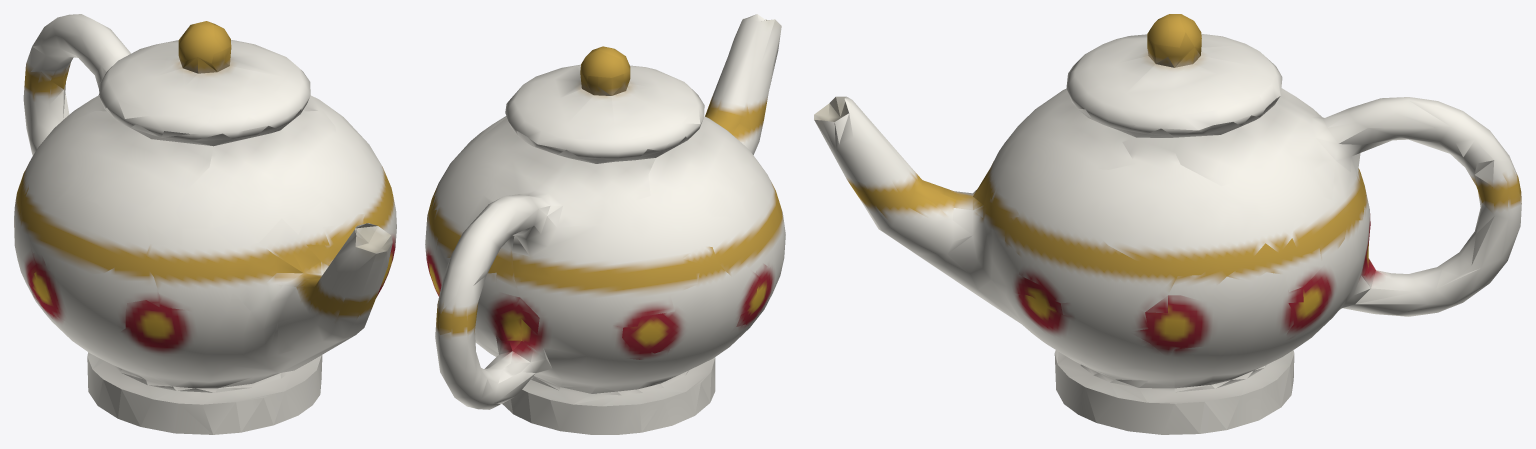
File: teapot_edits.mid.glb
3 renders of one model, left to right at view 1: azimuth 30°, elevation 25°; view 2: azimuth 150°, elevation 25°; view 3: azimuth 270°, elevation 25°, orthographic. The views are drawn at different scales.
Visible parts, largest first — view 1: teapot_edits; view 2: teapot_edits; view 3: teapot_edits.
Part boxes in pixels (bbox=[...]): teapot_edits: bbox=[14, 14, 396, 434]; teapot_edits: bbox=[425, 14, 785, 434]; teapot_edits: bbox=[814, 14, 1521, 434].
Size of the model in its own units: 0.1798 by 0.1865 by 0.3248.
Materials: 1 (1 with a texture image).
